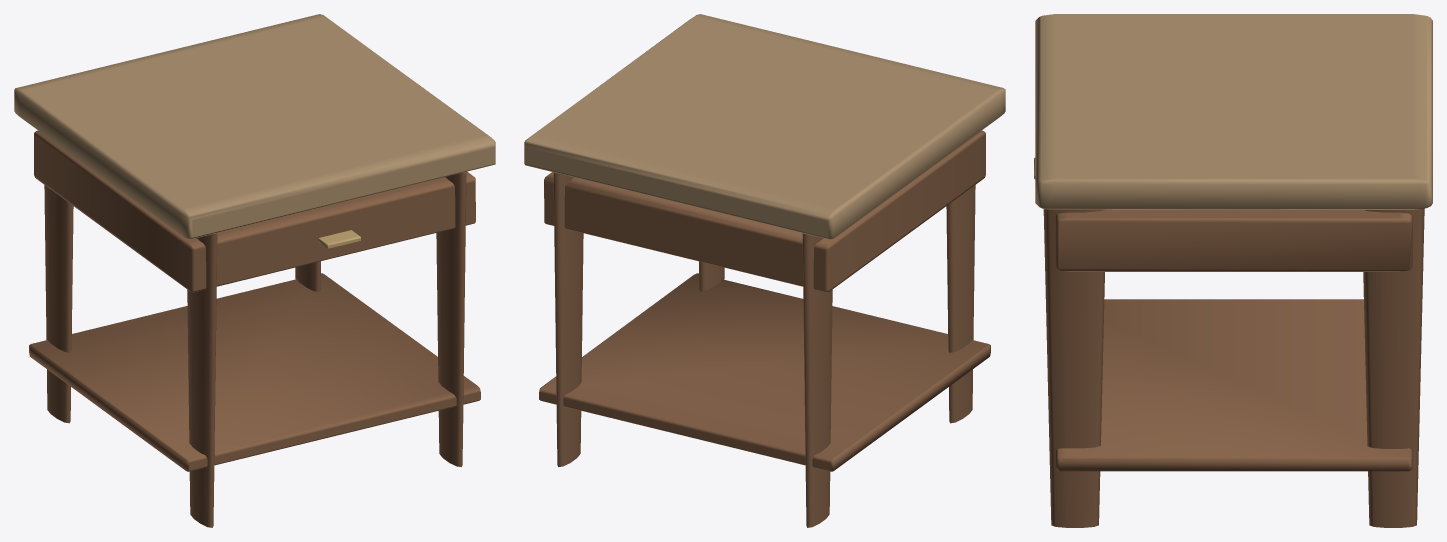
Rendered from table-21-2.lod.glb.
The picture shows the model from 3 angles, left to right: view 1: azimuth 30°, elevation 25°; view 2: azimuth 150°, elevation 25°; view 3: azimuth 270°, elevation 25°; orthographic projection. The views are drawn at different scales.
Visible parts, largest first — view 1: part, upholstery; view 2: part, upholstery; view 3: part, upholstery.
Boxes of the visible parts, x1=… form: part: x1=29, y1=130, x2=480, y2=527; upholstery: x1=14, y1=14, x2=495, y2=239; part: x1=539, y1=130, x2=990, y2=527; upholstery: x1=524, y1=14, x2=1005, y2=239; part: x1=1043, y1=208, x2=1424, y2=527; upholstery: x1=1035, y1=14, x2=1432, y2=209.
Bounding box in the file's own units: 1 × 1 × 1.
